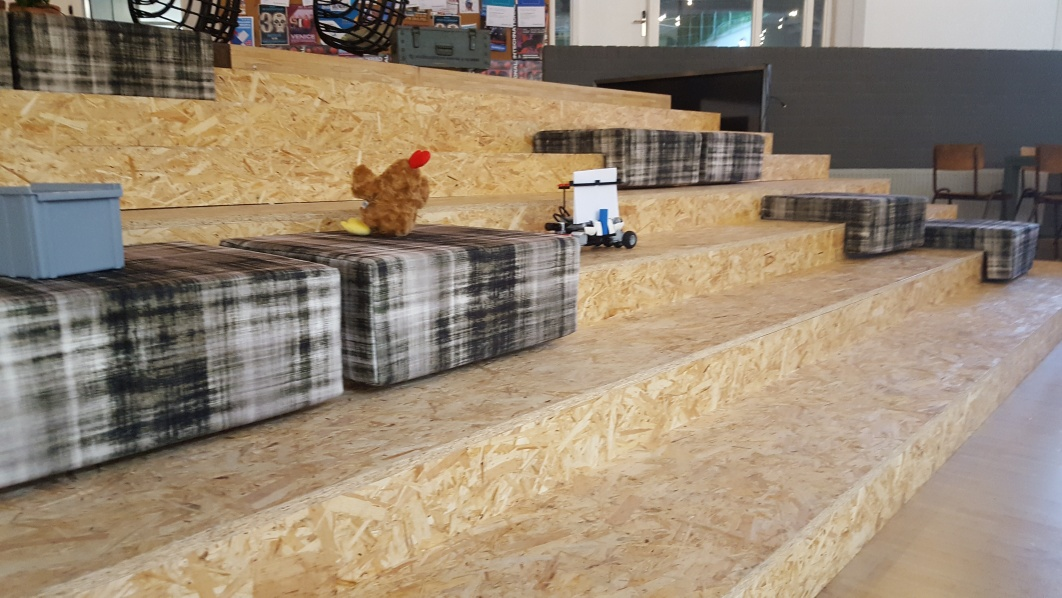car: (538, 166, 640, 251)
chicken: (338, 149, 437, 240)
tray: (3, 181, 125, 279)
